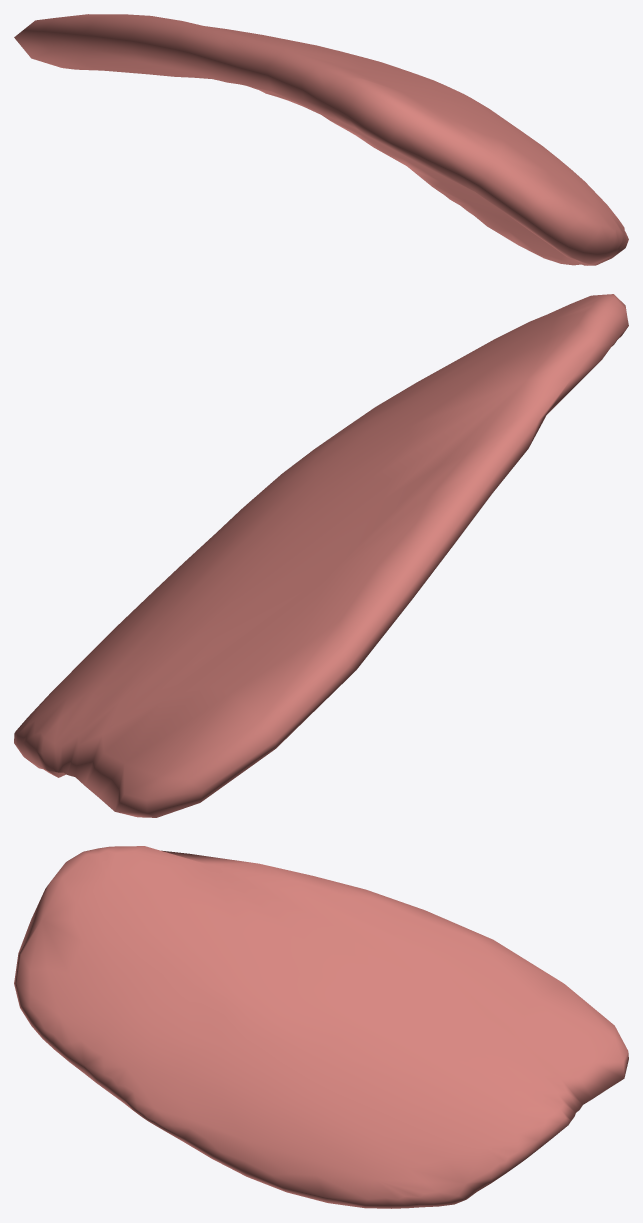
The picture shows the model from 3 angles, top to bottom: view 1: azimuth 30°, elevation 25°; view 2: azimuth 150°, elevation 25°; view 3: azimuth 270°, elevation 25°; orthographic projection. The views are drawn at different scales.
Parts seen in each view (by area): view 1: ZA_1f21dee90655b268; view 2: ZA_1f21dee90655b268; view 3: ZA_1f21dee90655b268.
Part boxes in pixels (bbox=[...]): ZA_1f21dee90655b268: bbox=[14, 14, 628, 265]; ZA_1f21dee90655b268: bbox=[14, 294, 628, 817]; ZA_1f21dee90655b268: bbox=[14, 846, 628, 1208].
Bounding box in the file's own units: 0.00457 × 0.00405 × 0.00907.
